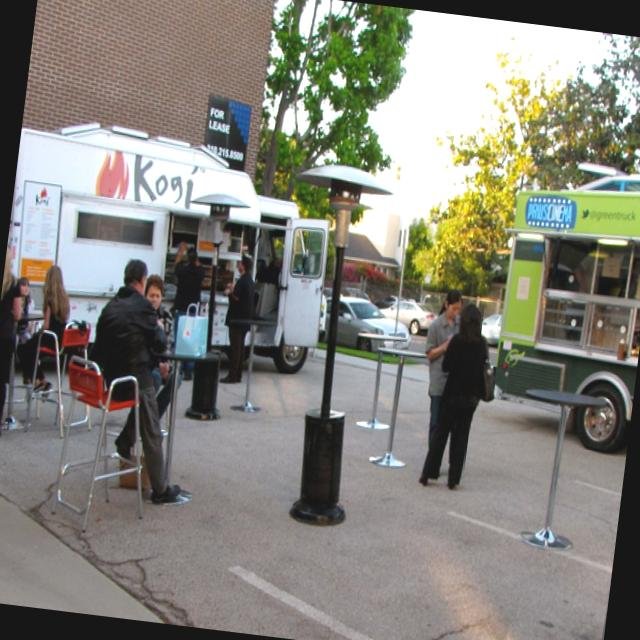Vehicle: (0, 111, 347, 377), (481, 131, 640, 454), (483, 178, 640, 450), (334, 296, 414, 355), (376, 296, 440, 337), (478, 310, 502, 350), (378, 293, 398, 308)
